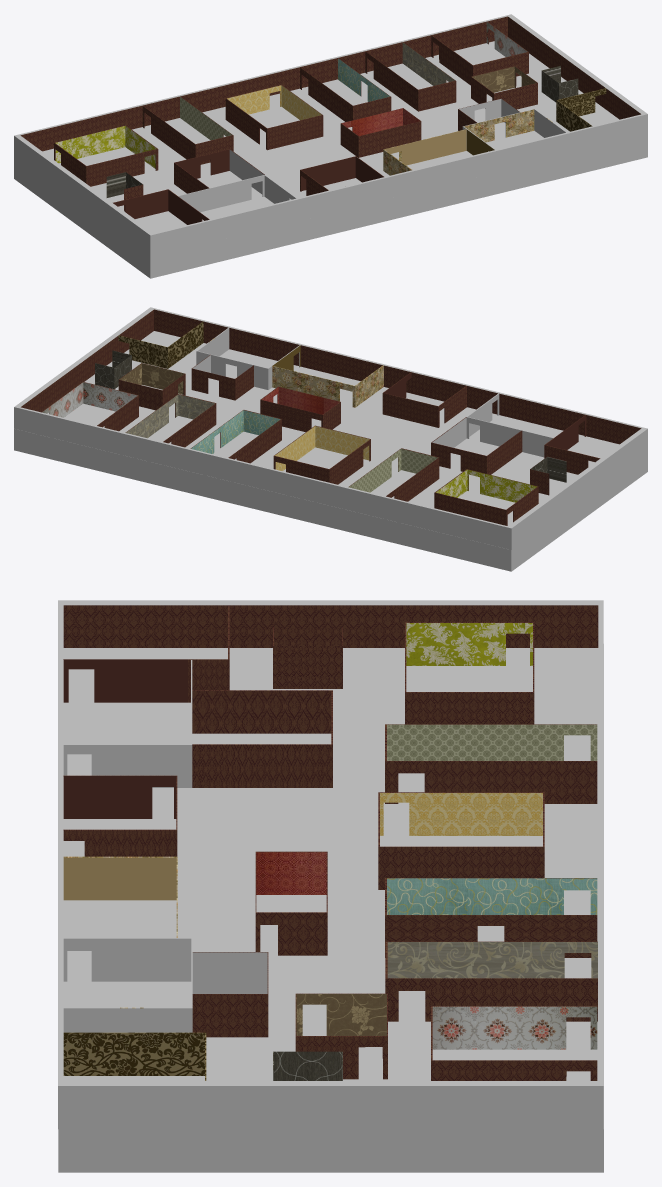
The model's file is finalsecondlevel.fbx.
The picture shows the model from 3 angles, top to bottom: view 1: azimuth 30°, elevation 25°; view 2: azimuth 150°, elevation 25°; view 3: azimuth 270°, elevation 25°; orthographic projection. The views are drawn at different scales.
Visible parts, largest first — view 1: Cube, Cube.001, Cube.028, Cube.030, Cube.039, Cube.037, Cube.002, Cube.038, Cube.031, Cube.024, Cube.026, Cube.006 (+8 smaller); view 2: Cube, Cube.001, Cube.028, Cube.030, Cube.037, Cube.038, Cube.002, Cube.039, Cube.031, Cube.006, Cube.032, Cube.023 (+8 smaller); view 3: Cube, Cube.001, Cube.002, Cube.039, Cube.038, Cube.006, Cube.030, Cube.031, Cube.028, Cube.024, Cube.023, Cube.003 (+8 smaller).
Boxes of the visible parts, x1,y1,x2,y2 form: Cube: (14,14,647,256); Cube.001: (14,136,647,278); Cube.028: (54,125,158,186); Cube.030: (225,85,323,150); Cube.039: (365,42,456,111); Cube.037: (340,108,421,157); Cube.002: (142,96,233,164); Cube.038: (300,58,391,121); Cube.031: (431,21,528,85); Cube.024: (462,109,566,155); Cube.026: (471,66,537,109); Cube.006: (174,149,264,194); Cube: (14,307,647,549); Cube.001: (14,428,647,571); Cube.028: (434,469,538,525); Cube.030: (273,425,370,484); Cube.037: (260,386,340,432); Cube.038: (190,410,281,463); Cube.002: (348,448,439,501); Cube.039: (125,394,216,447); Cube.031: (41,382,138,431); Cube.006: (431,417,522,474); Cube.032: (272,365,383,407); Cube.023: (382,372,466,427); Cube: (58,600,603,1129); Cube.001: (58,644,603,1172); Cube.002: (385,724,597,803); Cube.039: (385,941,597,1021); Cube.038: (385,878,597,957); Cube.006: (192,690,332,787); Cube.030: (378,792,544,889); Cube.031: (431,1006,597,1080); Cube.028: (405,622,534,724); Cube.024: (63,938,192,1032); Cube.023: (63,775,177,856); Cube.003: (192,952,268,1037).
Size of the model in its own units: 48.14 by 4.01 by 22.87.
